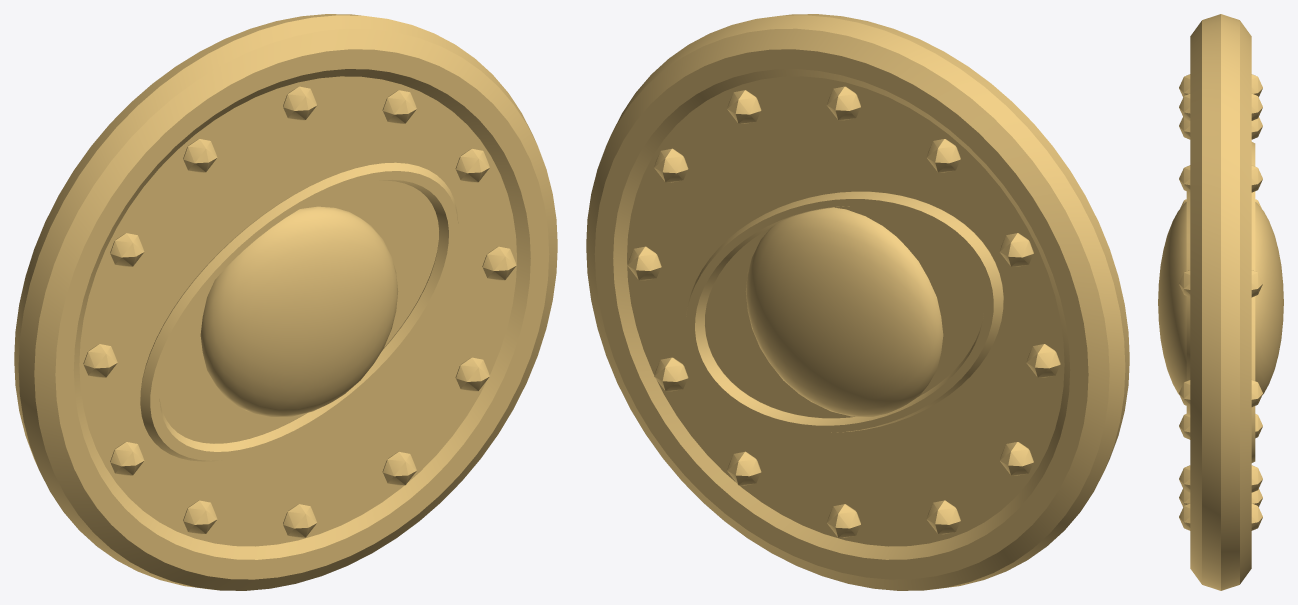
File: orbit-token.source.glb
3 views of the same model, side by side, from view 1: azimuth 30°, elevation 25°; view 2: azimuth 150°, elevation 25°; view 3: azimuth 270°, elevation 25° (orthographic). The views are drawn at different scales.
Visible parts, largest first — view 1: Token; view 2: Token; view 3: Token.
Part boxes in pixels (left/top/right/bottom): Token: left=14, top=14, right=557, bottom=590; Token: left=586, top=14, right=1129, bottom=590; Token: left=1158, top=14, right=1283, bottom=590.
Bounding box in the file's own units: 0.063 × 0.063 × 0.0137.
